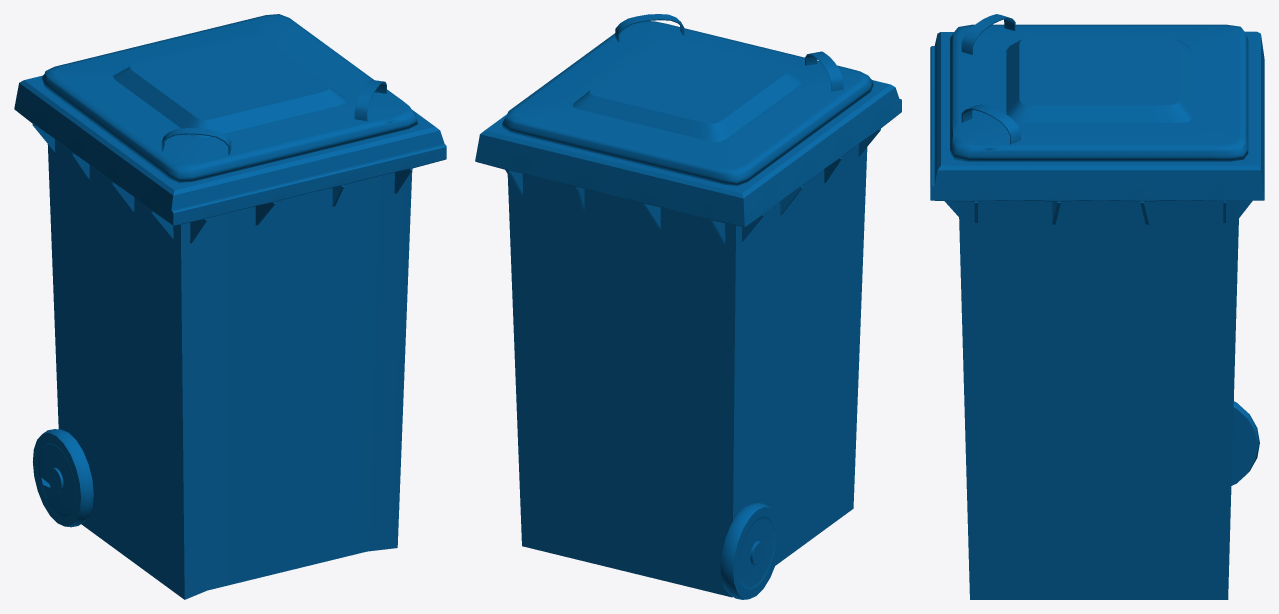
Rendered from Bin-Fixed.fbx.
3 views of the same model, side by side, from view 1: azimuth 30°, elevation 25°; view 2: azimuth 150°, elevation 25°; view 3: azimuth 270°, elevation 25° (orthographic). The views are drawn at different scales.
Parts seen in each view (by area): view 1: pasted__bin, pasted__gaizi_top, pasted__gaizi, pasted__left, pasted__pPipe1; view 2: pasted__bin, pasted__gaizi_top, pasted__gaizi, pasted__left, pasted__pasted__pPipe1, pasted__pPipe1; view 3: pasted__bin, pasted__gaizi_top, pasted__gaizi, pasted__left, pasted__pasted__pPipe1, pasted__pPipe1.
Part boxes in pixels (x1,y1,x2,y2): pasted__bin: (47, 139, 412, 599); pasted__gaizi_top: (41, 14, 417, 182); pasted__gaizi: (14, 75, 446, 243); pasted__left: (33, 429, 93, 527); pasted__pPipe1: (354, 80, 386, 120); pasted__bin: (507, 144, 867, 597); pasted__gaizi_top: (502, 21, 873, 185); pasted__gaizi: (475, 80, 901, 243); pasted__left: (720, 503, 780, 599); pasted__pasted__pPipe1: (805, 51, 843, 91); pasted__pPipe1: (615, 14, 684, 41); pasted__bin: (958, 200, 1239, 599); pasted__gaizi_top: (950, 24, 1248, 161); pasted__gaizi: (930, 31, 1264, 224); pasted__left: (1231, 401, 1259, 485); pasted__pasted__pPipe1: (961, 14, 1015, 54); pasted__pPipe1: (961, 104, 1020, 144).
Bounding box in the file's own units: 2.11 × 3.4 × 2.13.
